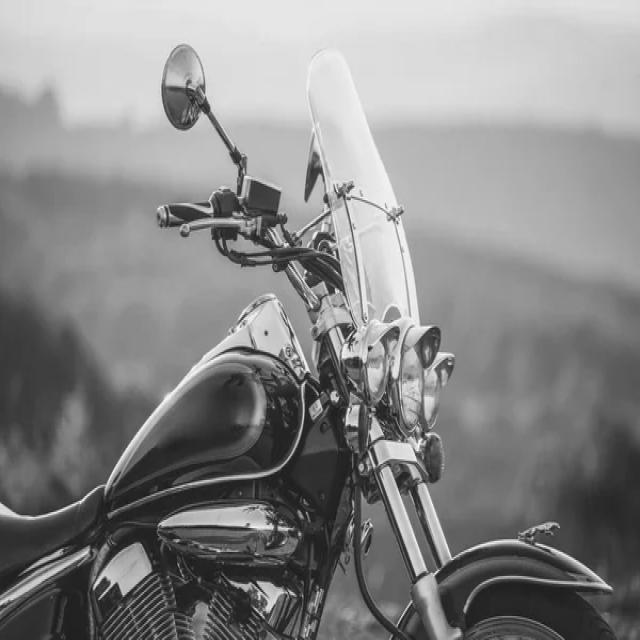Motorcycle: (0, 45, 614, 639)
